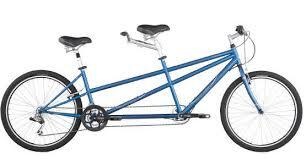bicycle: (1, 21, 304, 155)
